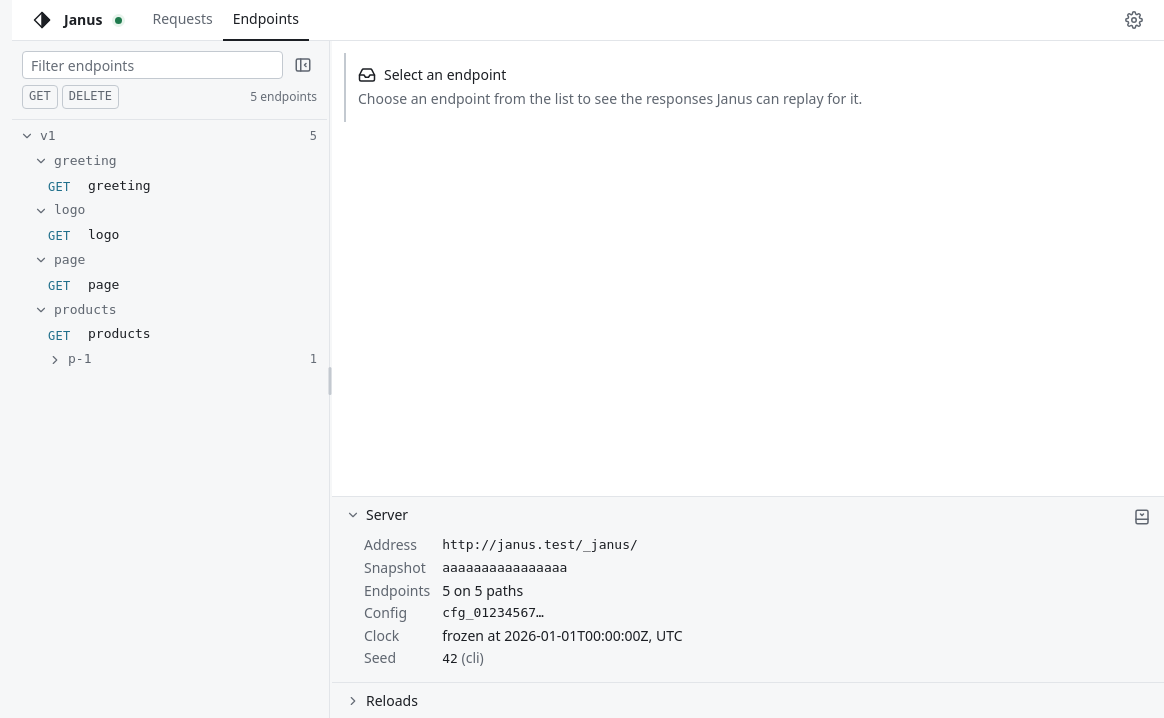
Test case: App › renders fixture HTML as inert text and labels truncation
This screenshot has width=1164, height=718.
Click the link with aria-label "GET /v1/page, scenario default" at (104,284), box [48,277,119,293]
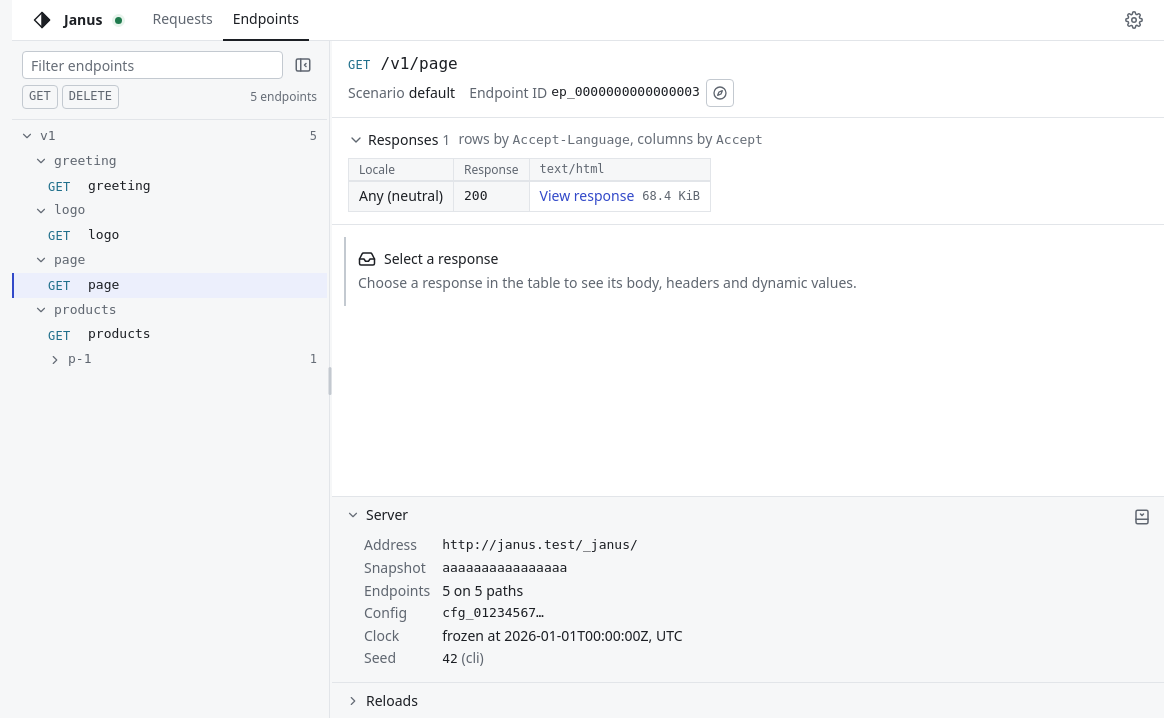
Click the link with aria-label "View response 200" at (620,197), box [530,182,710,211]
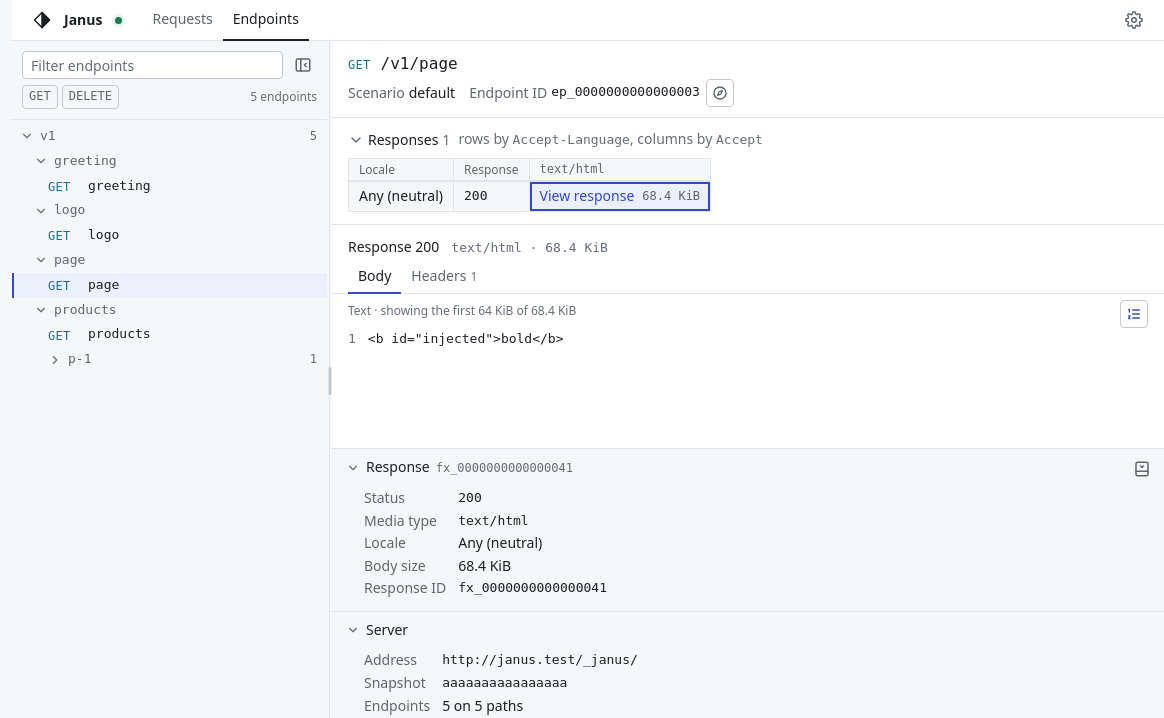
Now the column heading "text/html" is shown, box [529,158,711,181]
Now the text "Text · showing the first 64 KiB of 68.4 KiB" is shown, box [348,302,576,319]
